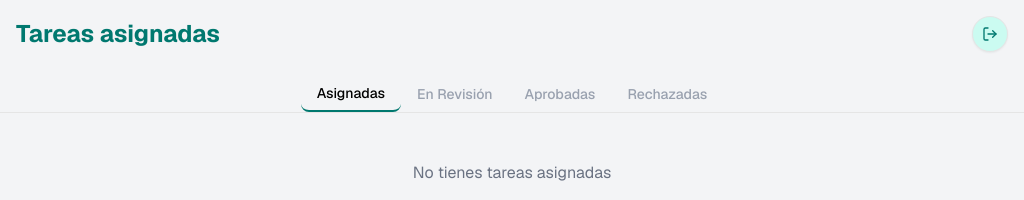
TasksList › should display empty state message when no tasks match filter
Expected: the text "No tienes tareas asignadas" is shown, [413,162,611,183]
Switch to other tabs and check empty messages
Click the button "En Revisión" at x=455, y=94, box [401,76,509,112]
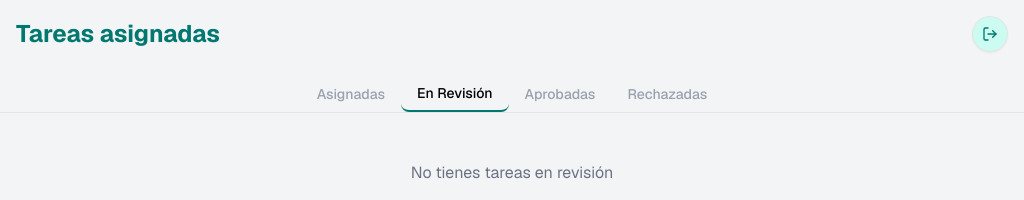
Now the text "No tienes tareas en revisión" is shown, box [411,162,613,183]
Click the button "Aprobadas" at x=560, y=94, box [509,76,611,112]
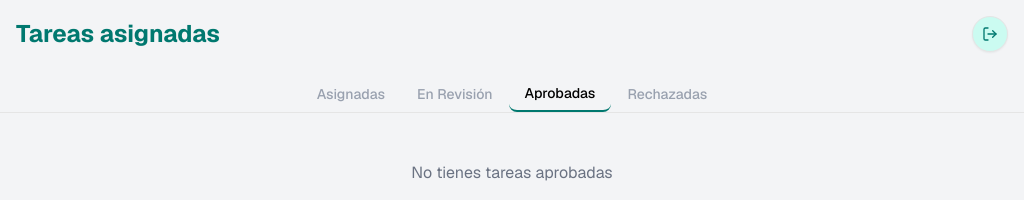
Now the text "No tienes tareas aprobadas" is shown, box [411,162,613,183]
